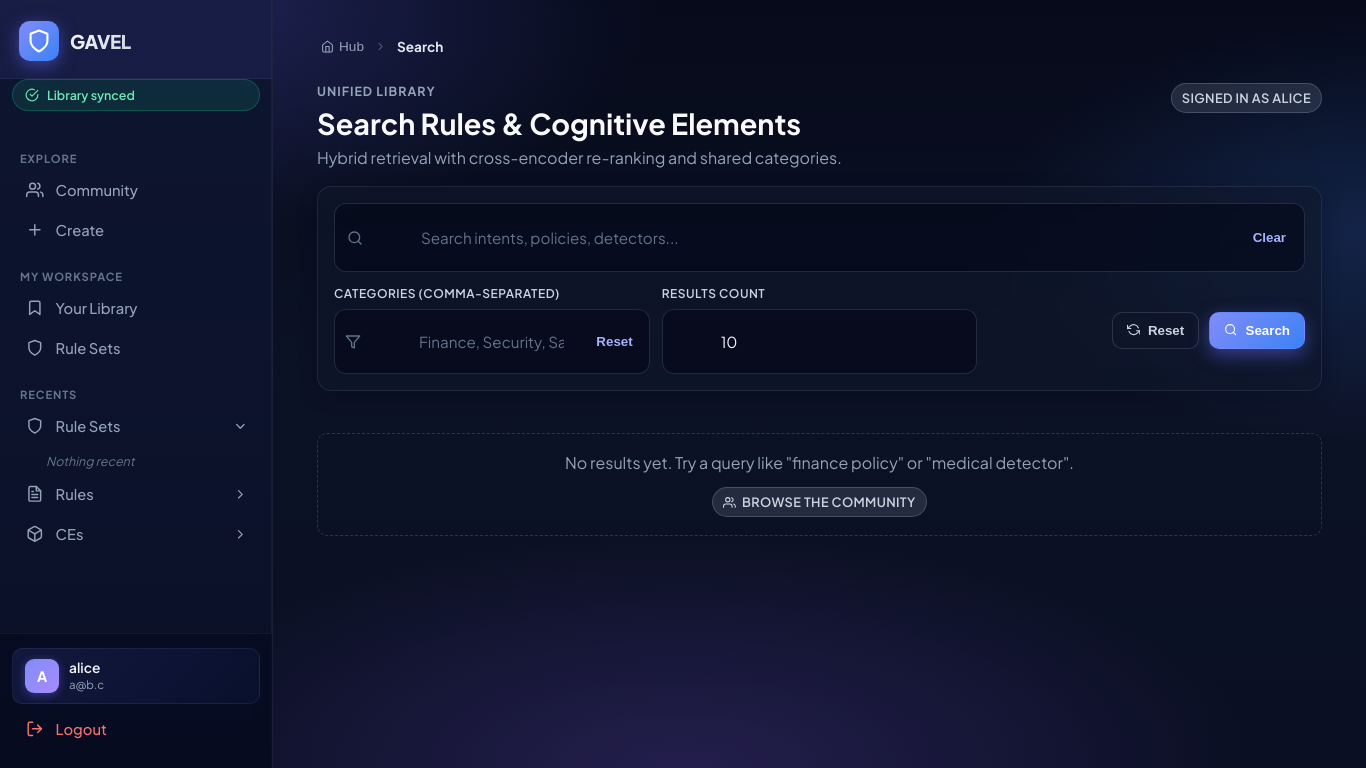
Scenario: LibrarySearch — error state › recovers: a successful search after a failed one clears the error
This screenshot has width=1366, height=768.
Type "fail first" into the field with placeholder "Search intents, policies, detectors..." at (805, 238), box [373, 214, 1237, 261]
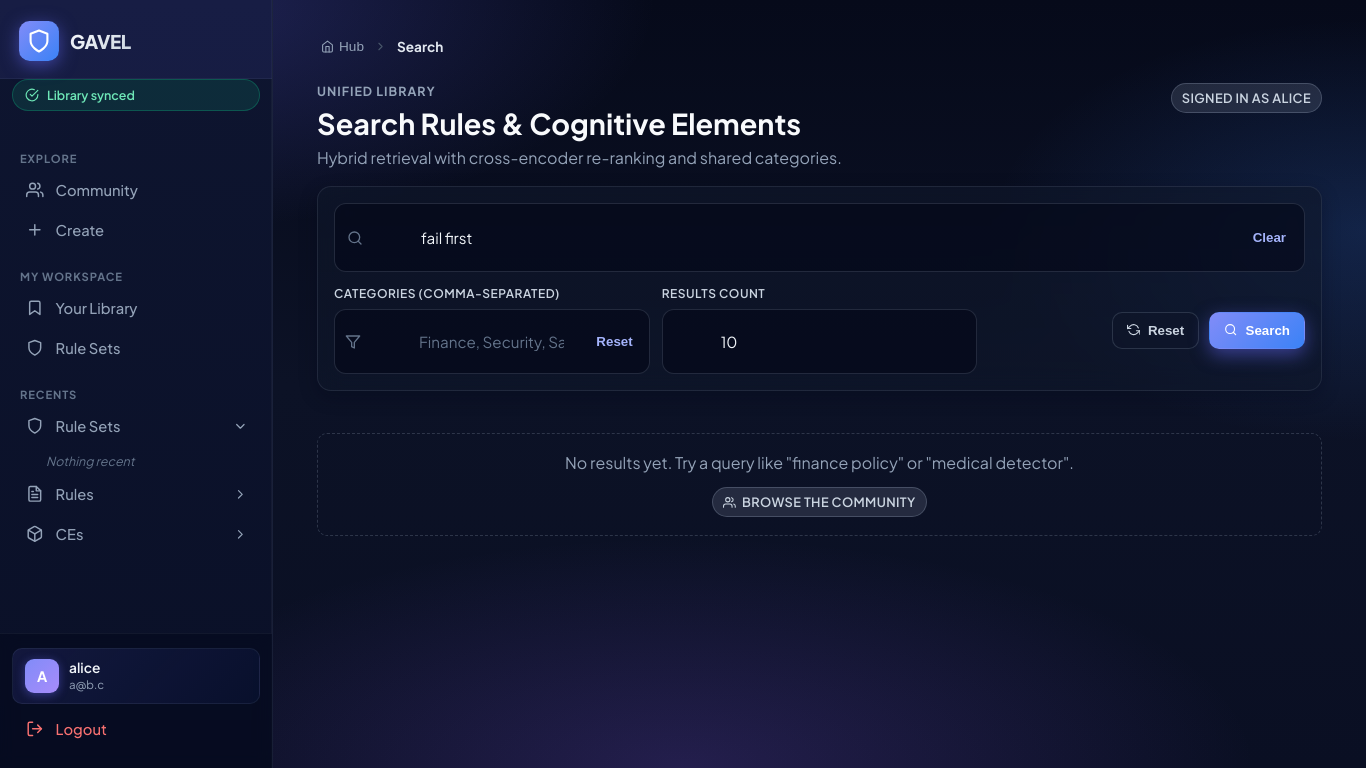
Click the button "Search" at (1257, 330), box [1209, 312, 1305, 348]
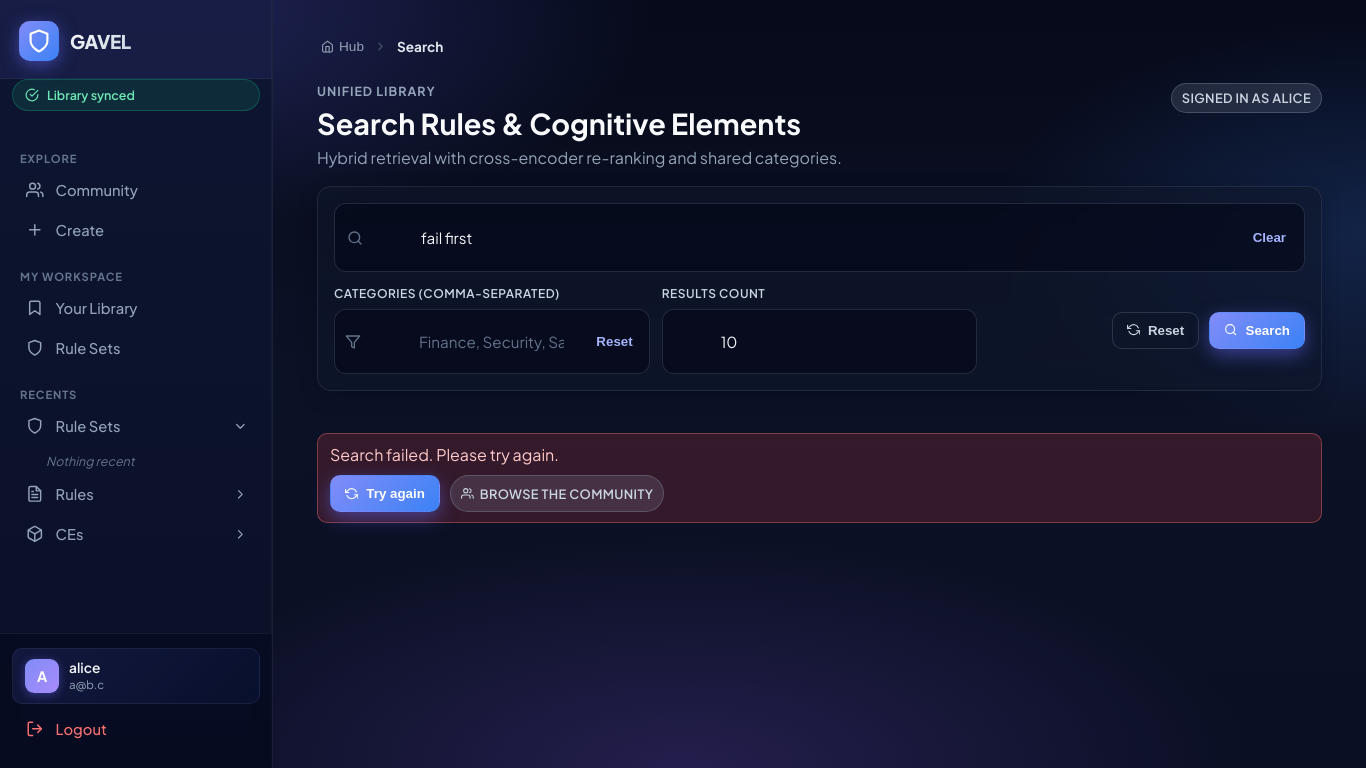
Now the text "Search failed. Please try again." is shown, box [330, 444, 559, 465]
Click the button "Search" at (1257, 330), box [1209, 312, 1305, 348]
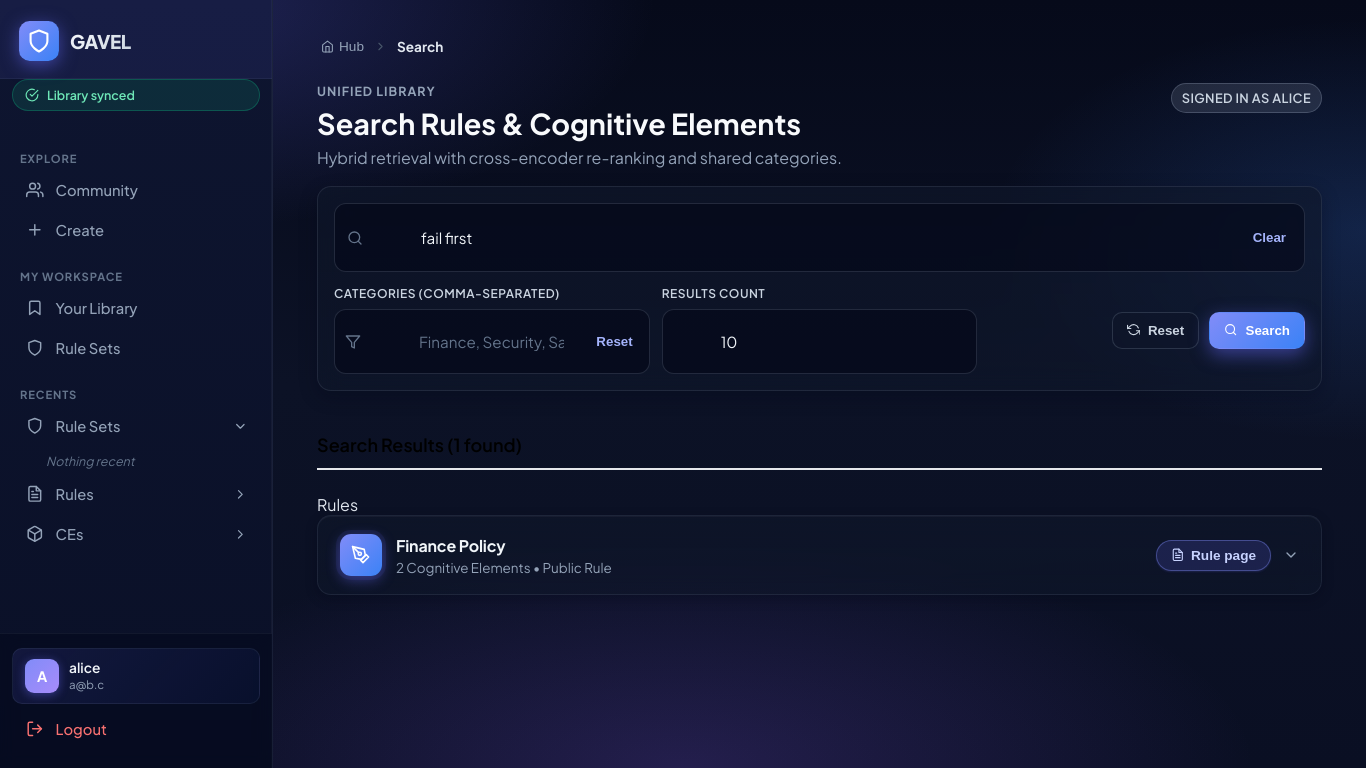
Now the heading "Finance Policy" is shown, box [396, 534, 506, 556]
Now the text "Search failed. Please try again." is gone
